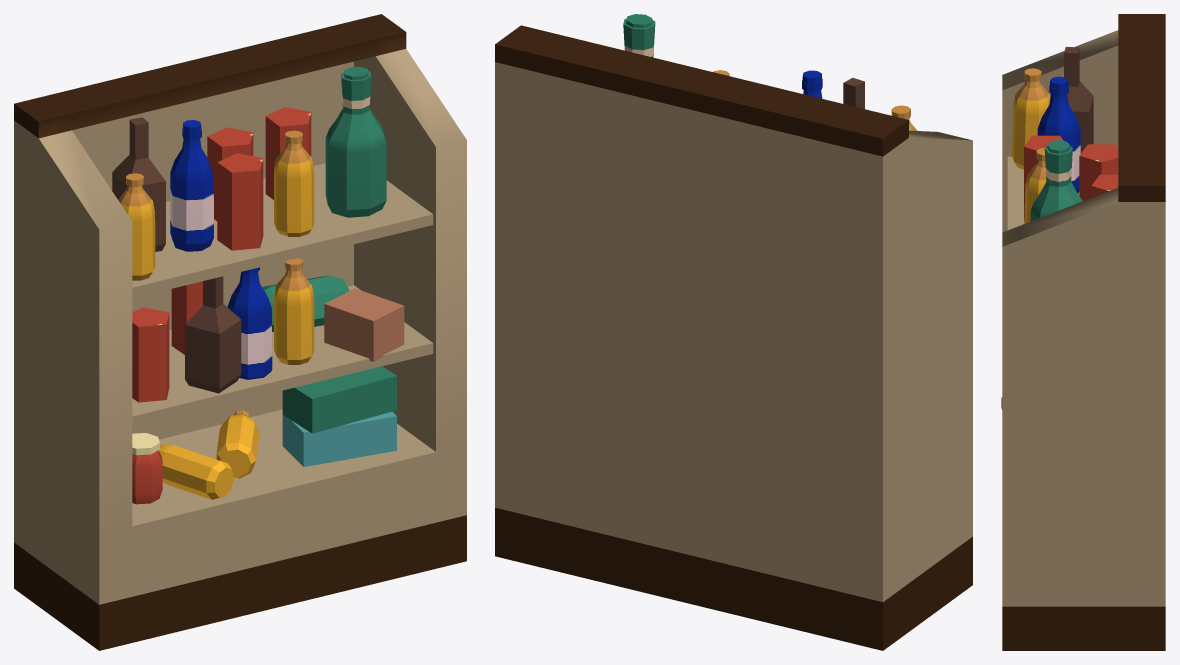
Rendered from ALCOHOL SHELF.fbx.
The picture shows the model from 3 angles, left to right: view 1: azimuth 30°, elevation 25°; view 2: azimuth 150°, elevation 25°; view 3: azimuth 270°, elevation 25°; orthographic projection. The views are drawn at different scales.
Parts seen in each view (by area): view 1: pCylinder33; view 2: pCylinder33; view 3: pCylinder33.
Part boxes in pixels (<box>): pCylinder33: <box>14,14,466,650</box>; pCylinder33: <box>495,14,972,650</box>; pCylinder33: <box>1001,14,1165,650</box>.
Bounding box in the file's own units: 222 × 281 × 89.38.
Materials: 8 (6 with a texture image).
